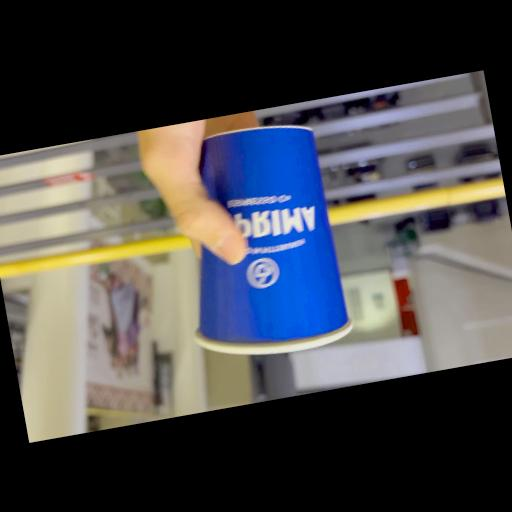lp_paper_cup: (160, 116, 352, 367)
